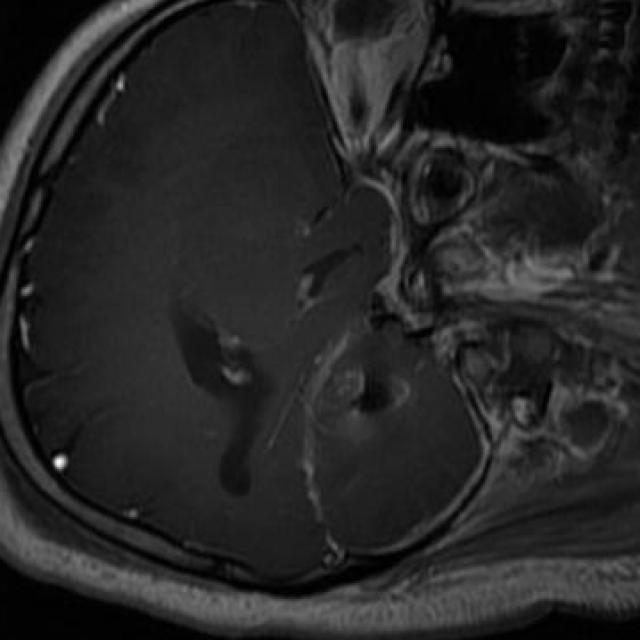glioma: (314, 357, 412, 440)
